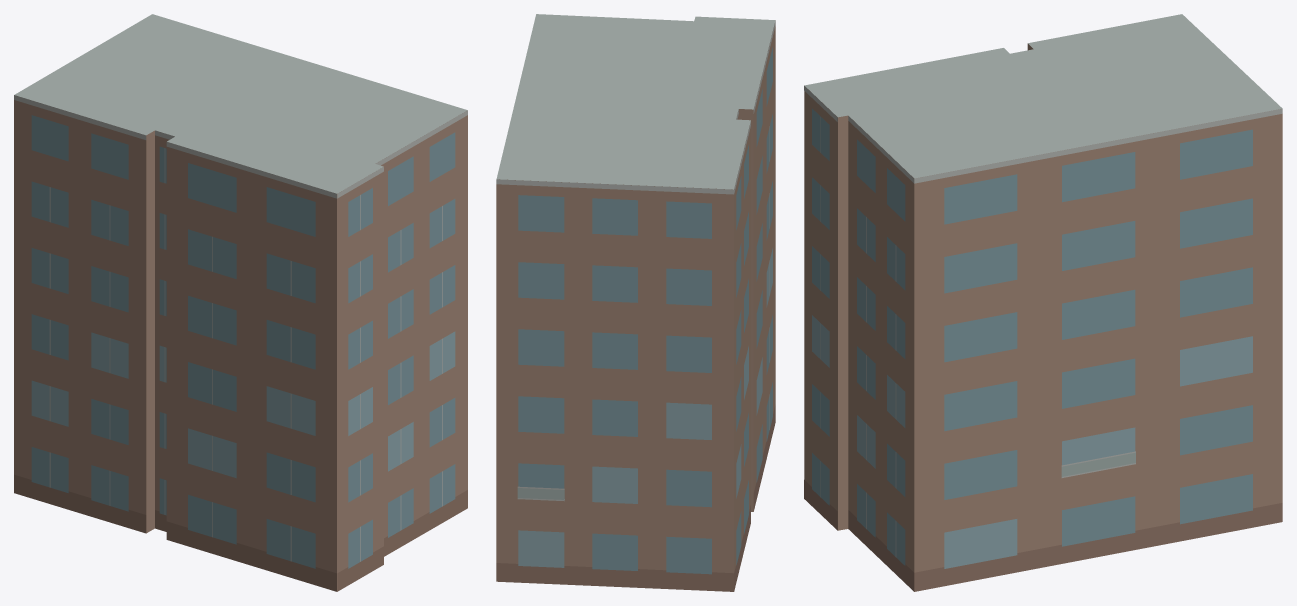
The model's file is survey-upis-32954203.glb.
3 renders of one model, left to right at view 1: azimuth 30°, elevation 25°; view 2: azimuth 150°, elevation 25°; view 3: azimuth 270°, elevation 25°, orthographic. The views are drawn at different scales.
Visible parts, largest first — view 1: survey-upis-32954203.tmp; view 2: survey-upis-32954203.tmp; view 3: survey-upis-32954203.tmp.
Part boxes in pixels (x1=…): survey-upis-32954203.tmp: x1=14, y1=14, x2=467, y2=591; survey-upis-32954203.tmp: x1=496, y1=14, x2=775, y2=591; survey-upis-32954203.tmp: x1=804, y1=14, x2=1282, y2=591.
Size of the model in its own units: 16.85 by 19.73 by 20.7.
